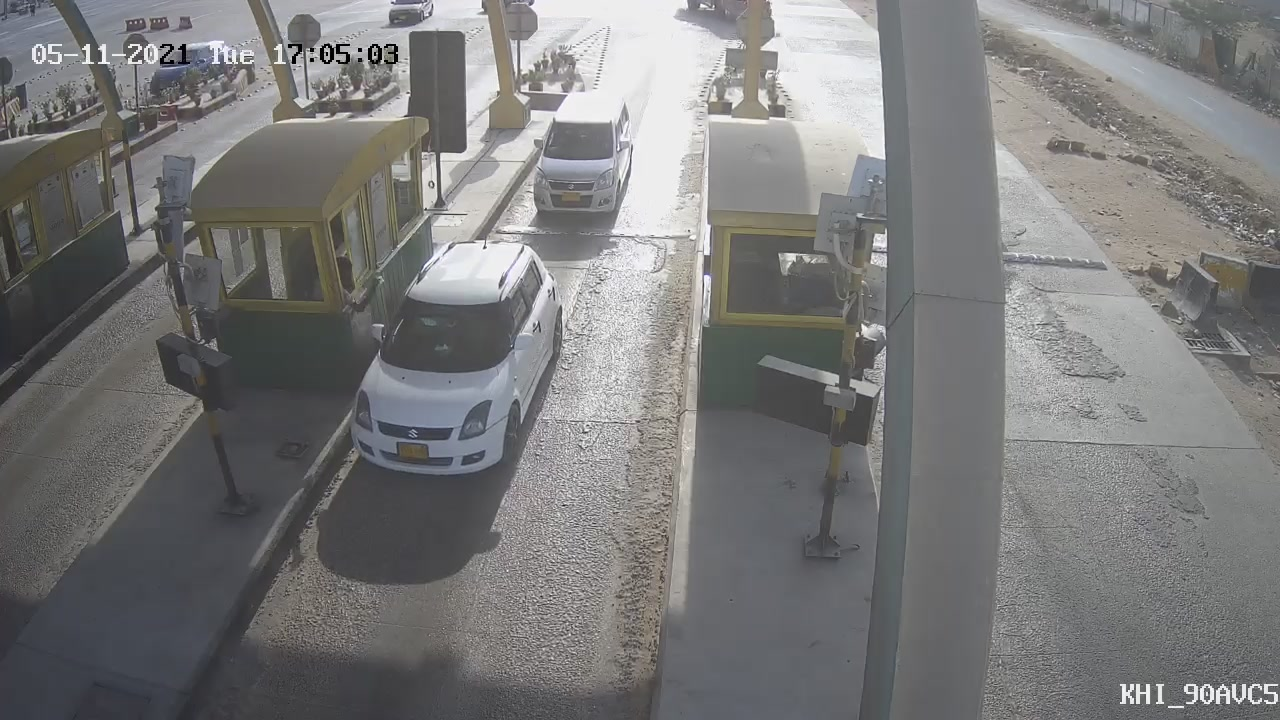F1: (326, 215, 585, 492), (512, 79, 647, 232)
